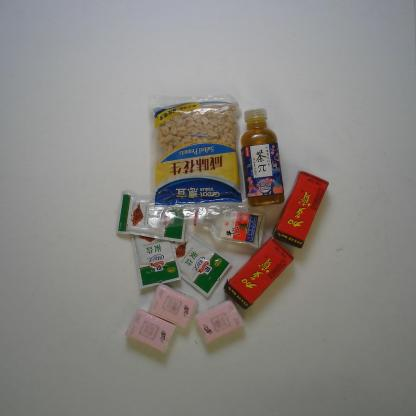Alcohol: (190, 203, 268, 250)
Dried Fruit: (146, 94, 243, 204)
Drink: (237, 104, 286, 209), (224, 236, 294, 308), (272, 170, 330, 248)
Seasoner: (160, 226, 228, 298), (128, 213, 182, 289), (115, 192, 188, 244)
Tissue: (194, 300, 246, 344), (122, 310, 174, 353), (147, 284, 197, 328)
